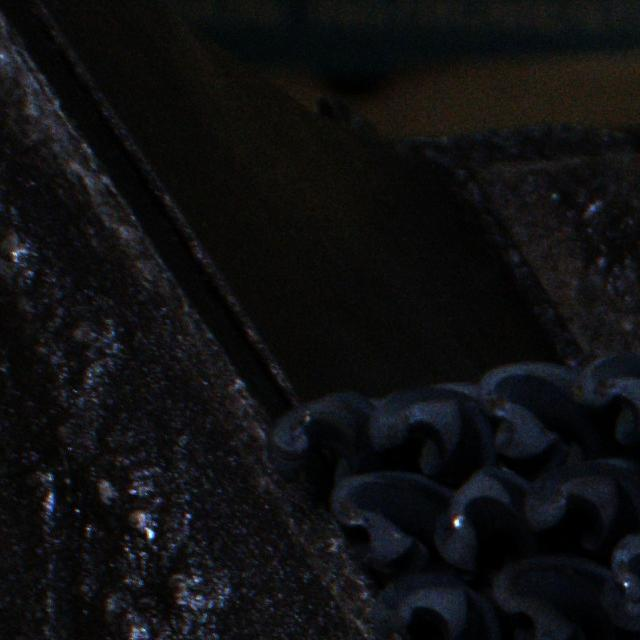tool_b: (479, 362, 606, 468), (330, 472, 454, 576), (434, 464, 540, 584), (366, 382, 496, 478), (266, 391, 384, 489), (522, 456, 640, 550), (490, 552, 610, 640), (369, 575, 500, 640), (570, 352, 640, 448)
